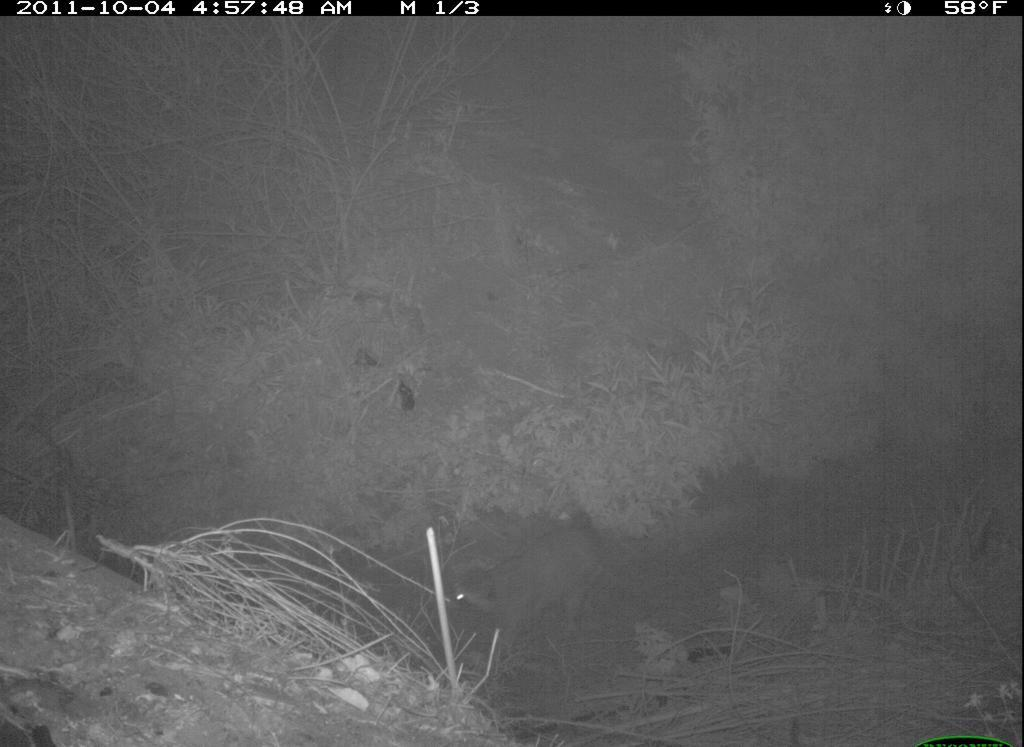raccoon: (442, 513, 621, 666)
